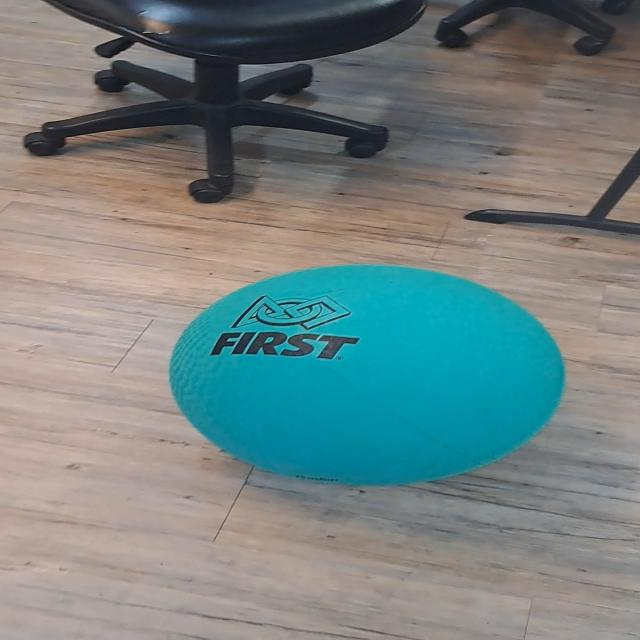ALGAE: (165, 261, 567, 487)
